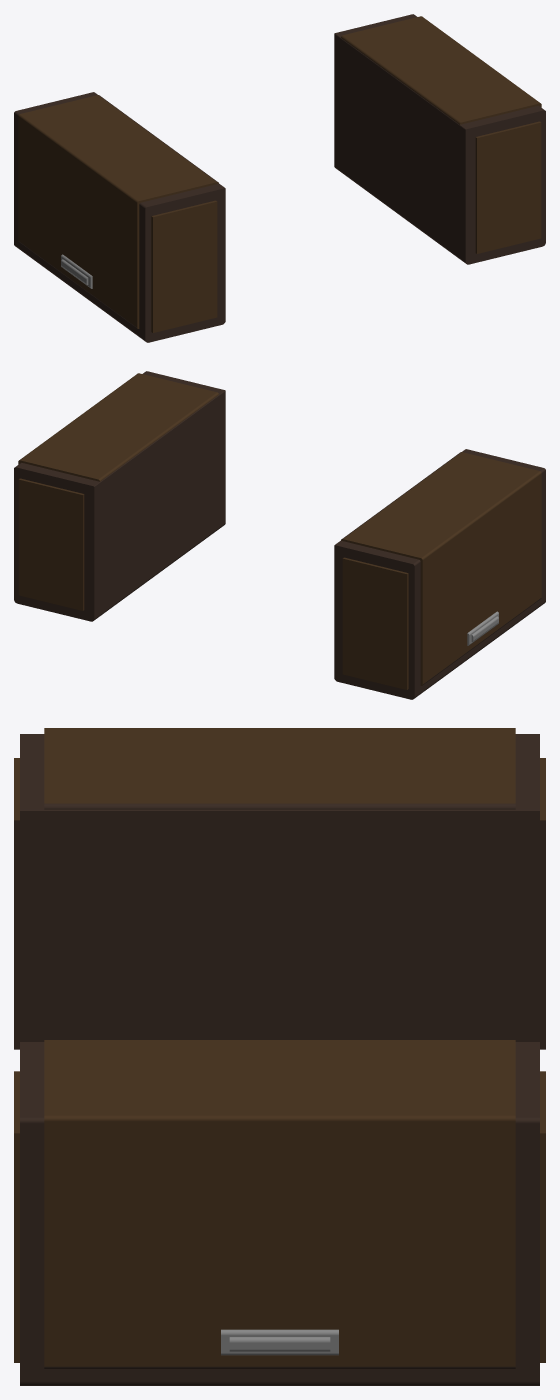
The model's file is saddlebags.obj.
3 views of the same model, one above another, from view 1: azimuth 30°, elevation 25°; view 2: azimuth 150°, elevation 25°; view 3: azimuth 270°, elevation 25° (orthographic). The views are drawn at different scales.
Visible parts, largest first — view 1: Mesh01, Mesh02; view 2: Mesh01, Mesh02; view 3: Mesh01, Mesh02.
Part boxes in pixels (x1=…): Mesh01: x1=334, y1=14, x2=545, y2=264; Mesh02: x1=14, y1=92, x2=225, y2=342; Mesh01: x1=14, y1=371, x2=225, y2=621; Mesh02: x1=334, y1=449, x2=545, y2=699; Mesh01: x1=14, y1=1040, x2=545, y2=1385; Mesh02: x1=14, y1=728, x2=545, y2=1049.
Size of the model in its own units: 1.58 by 0.504 by 0.89.
